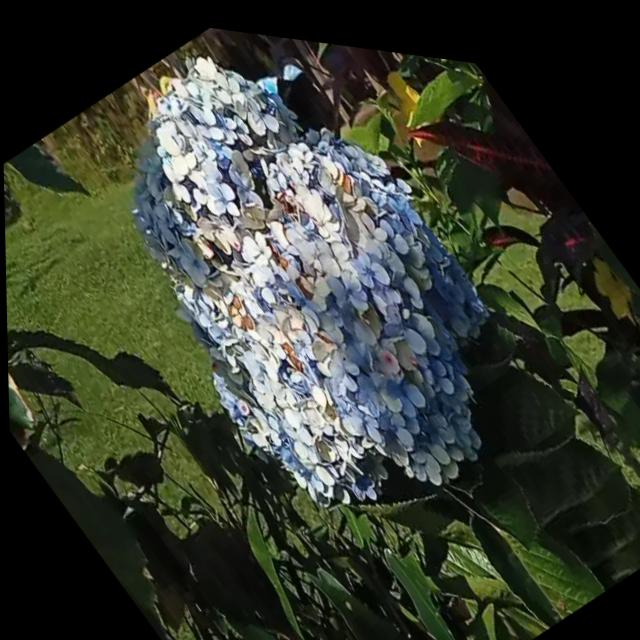Flower: (35, 4, 570, 581)
